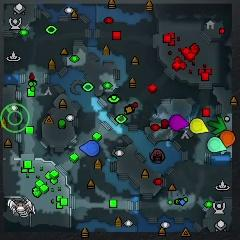p1: (80, 140, 100, 156)
p2: (208, 138, 227, 152)
p3: (170, 114, 188, 131)
p4: (190, 118, 209, 133)
p5: (220, 131, 235, 147)
x4: (210, 116, 225, 134)
